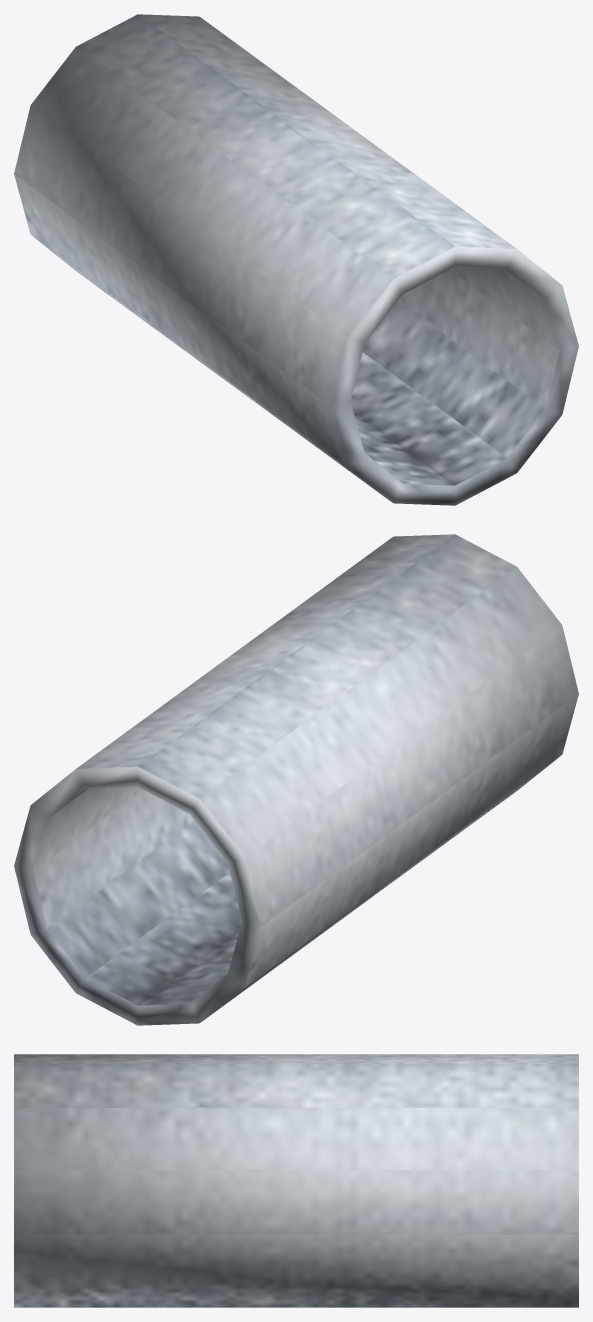
File: concretepipe.glb
3 views of the same model, one above another, from view 1: azimuth 30°, elevation 25°; view 2: azimuth 150°, elevation 25°; view 3: azimuth 270°, elevation 25° (orthographic). The views are drawn at different scales.
Visible parts, largest first — view 1: ConcretePipe; view 2: ConcretePipe; view 3: ConcretePipe.
Part boxes in pixels (x1,y1,x2,y2): ConcretePipe: (14, 14, 578, 505); ConcretePipe: (14, 534, 578, 1025); ConcretePipe: (14, 1054, 578, 1307).
Bounding box in the file's own units: 0.9 × 0.9 × 2.
1 material, 1 textured.
